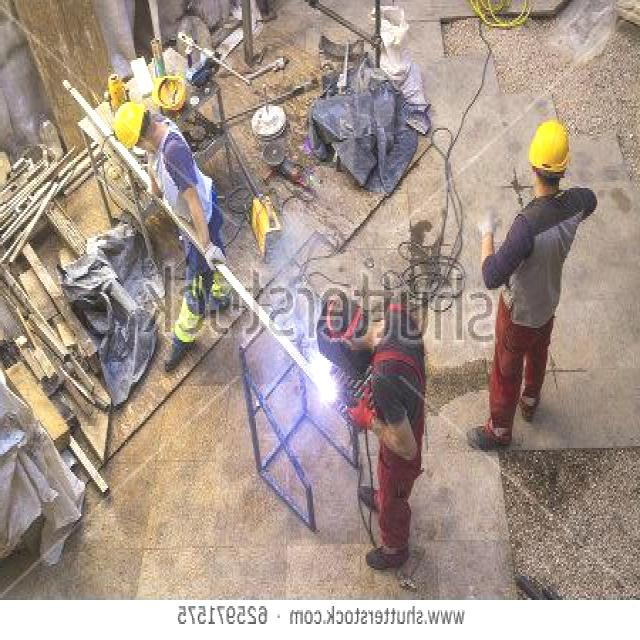face_mask: (128, 128, 155, 166)
hand_glove: (470, 202, 500, 246), (202, 238, 228, 270)
head_helmet: (523, 118, 572, 166), (111, 102, 141, 146), (154, 70, 188, 108)
head_nohelmet: (317, 268, 351, 338)
person: (494, 100, 581, 434), (118, 102, 209, 342), (347, 300, 427, 560)
shoes: (465, 418, 516, 462), (358, 540, 414, 580), (162, 325, 202, 379), (355, 483, 399, 519)
